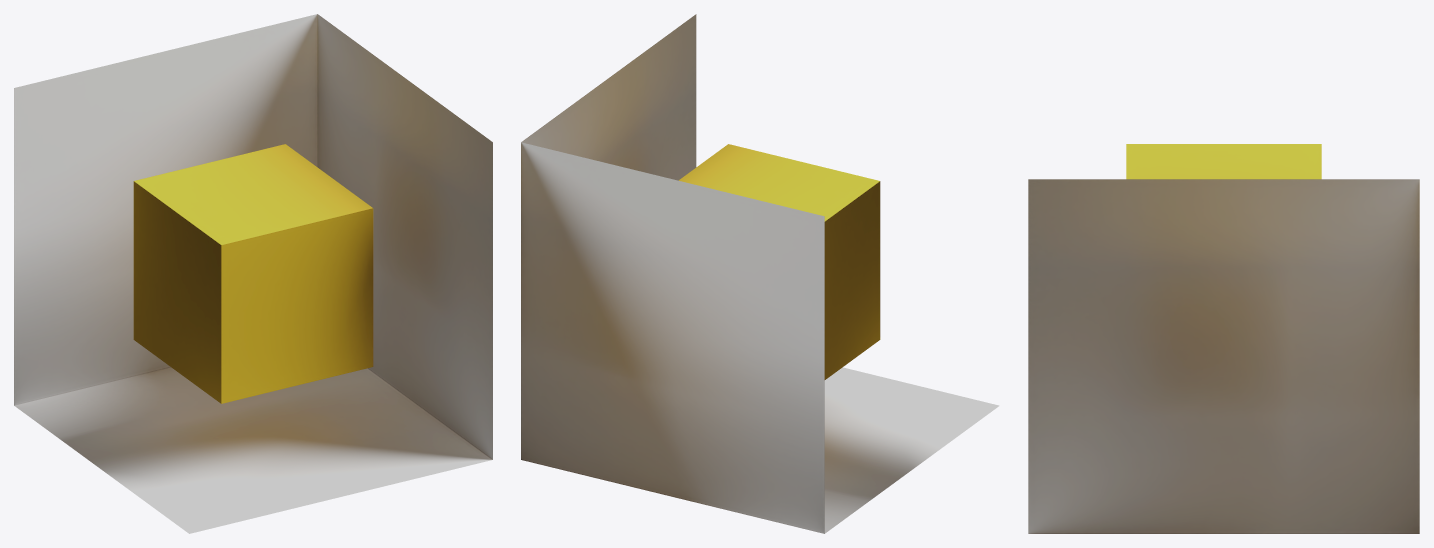
File: FloatingCube.glb
The picture shows the model from 3 angles, left to right: view 1: azimuth 30°, elevation 25°; view 2: azimuth 150°, elevation 25°; view 3: azimuth 270°, elevation 25°; orthographic projection. The views are drawn at different scales.
Visible parts, largest first — view 1: Instance_Baked, Cube_Baked; view 2: Instance_Baked, Cube_Baked; view 3: Instance_Baked, Cube_Baked.
Boxes of the visible parts, x1,y1,x2,y2 form: Instance_Baked: (14, 14, 492, 533); Cube_Baked: (133, 144, 373, 403); Instance_Baked: (521, 14, 999, 533); Cube_Baked: (679, 144, 880, 379); Instance_Baked: (1028, 179, 1419, 533); Cube_Baked: (1126, 144, 1321, 179).
Size of the model in its own units: 1 by 1 by 1.
1 material, 1 textured.
